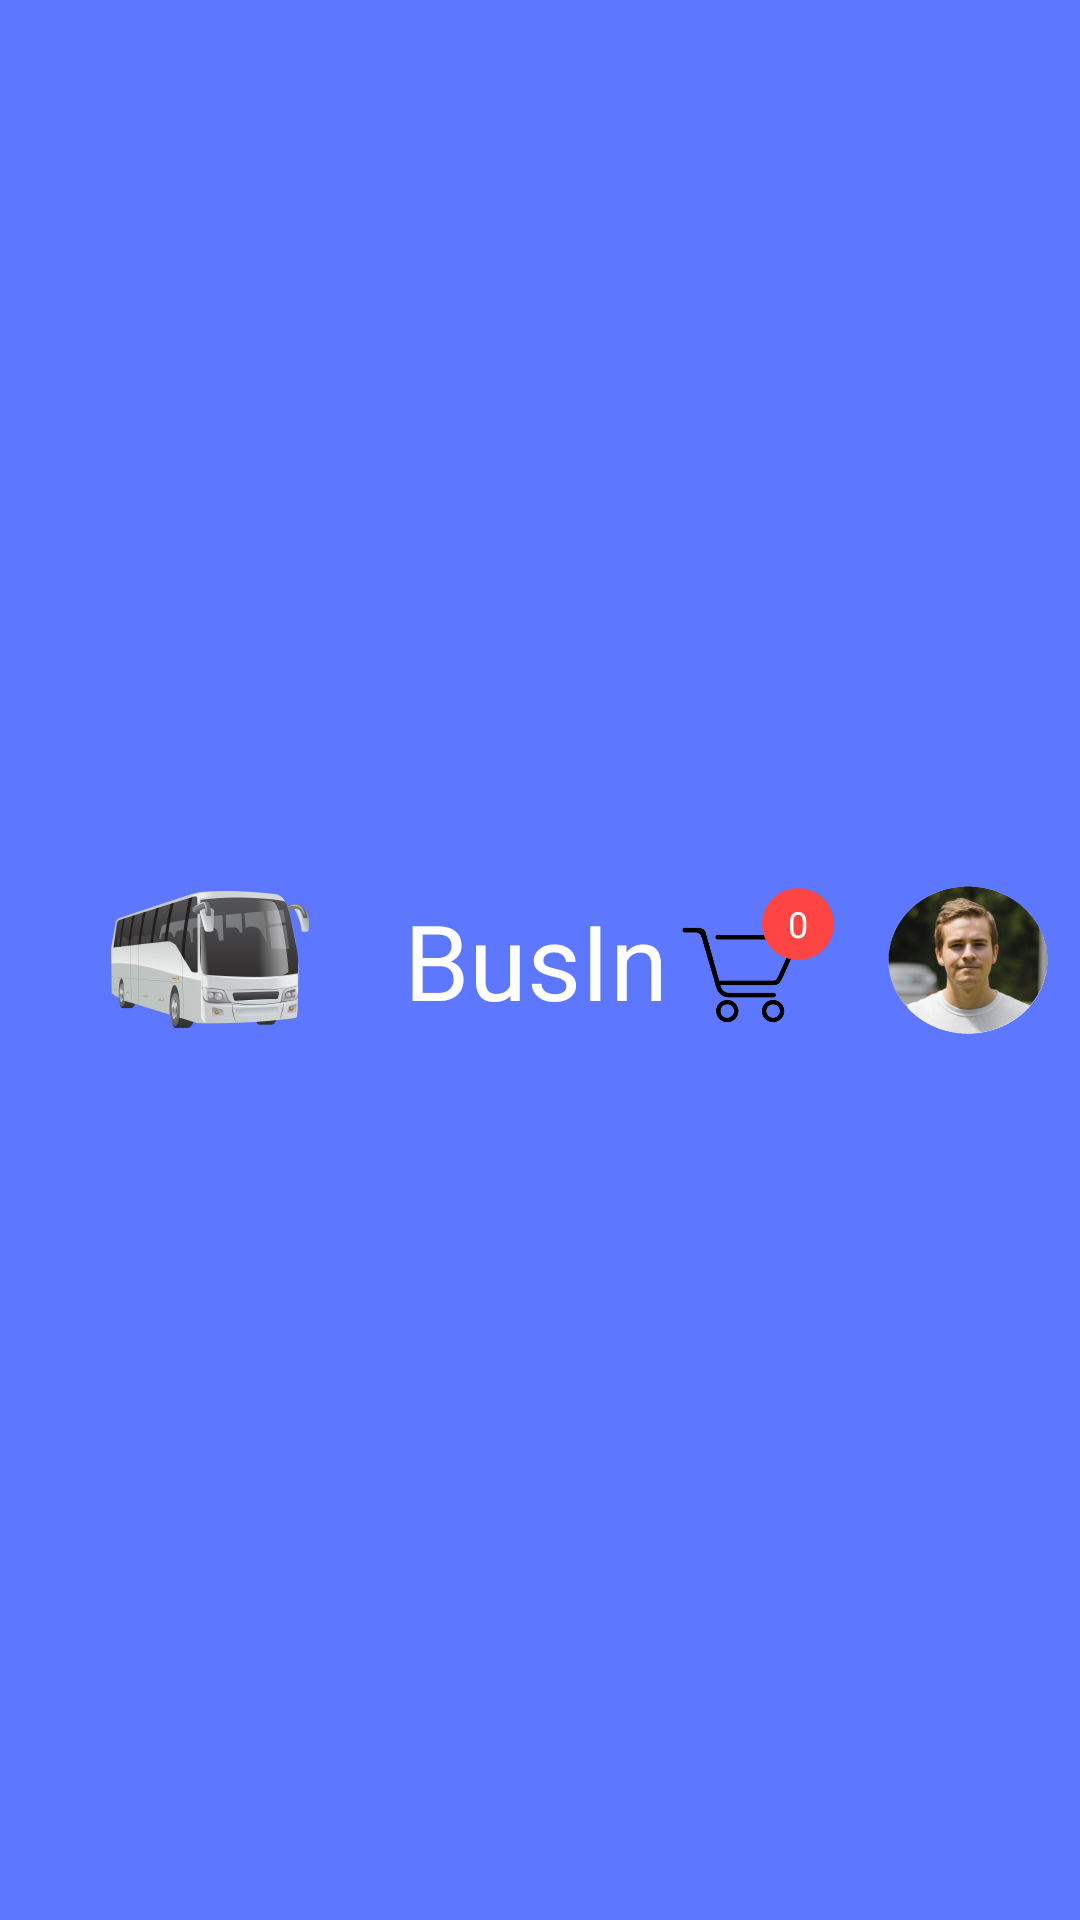

Where icons sit on this 1080×1920 app screen, as (x1, y1, x2, y2):
bus: (111, 891, 309, 1028)
cart buy tickets: (682, 915, 800, 1023)
person for login: (888, 886, 1048, 1034)
